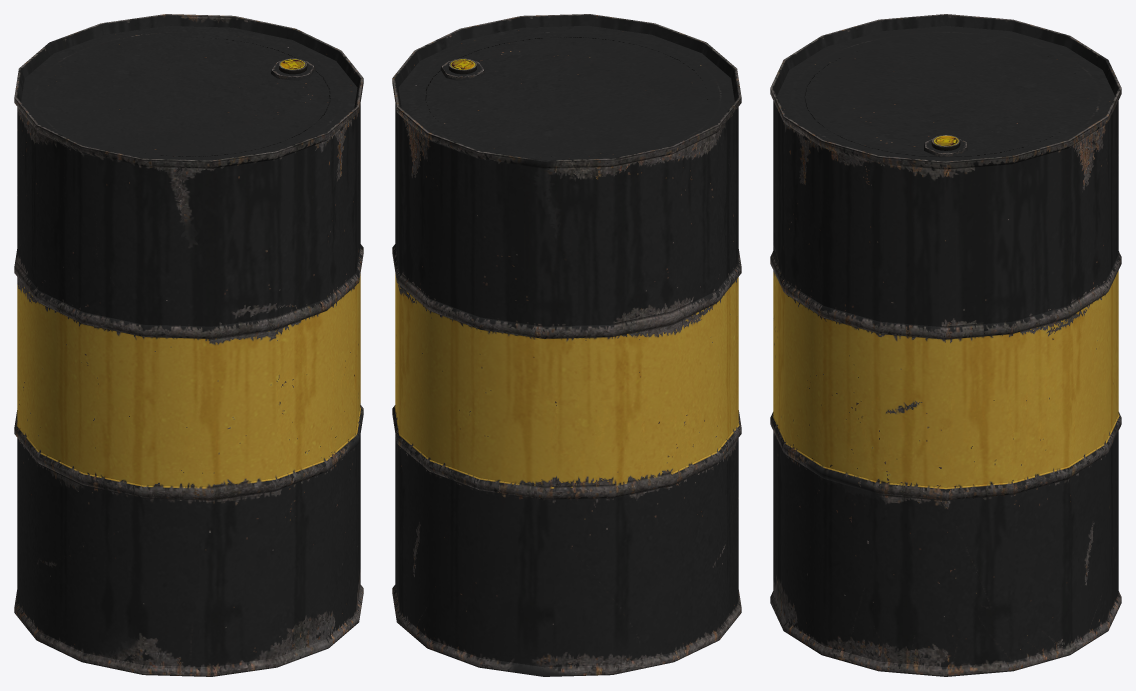
Rendered from barrel_1m.FBX.
The picture shows the model from 3 angles, left to right: view 1: azimuth 30°, elevation 25°; view 2: azimuth 150°, elevation 25°; view 3: azimuth 270°, elevation 25°; orthographic projection.
Visible parts, largest first — view 1: barrel_1m; view 2: barrel_1m; view 3: barrel_1m.
Part boxes in pixels (<box>): barrel_1m: <box>14,14,363,676</box>; barrel_1m: <box>392,14,741,676</box>; barrel_1m: <box>770,14,1121,676</box>.
Size of the model in its own units: 0.6193 by 0.9998 by 0.6193.
